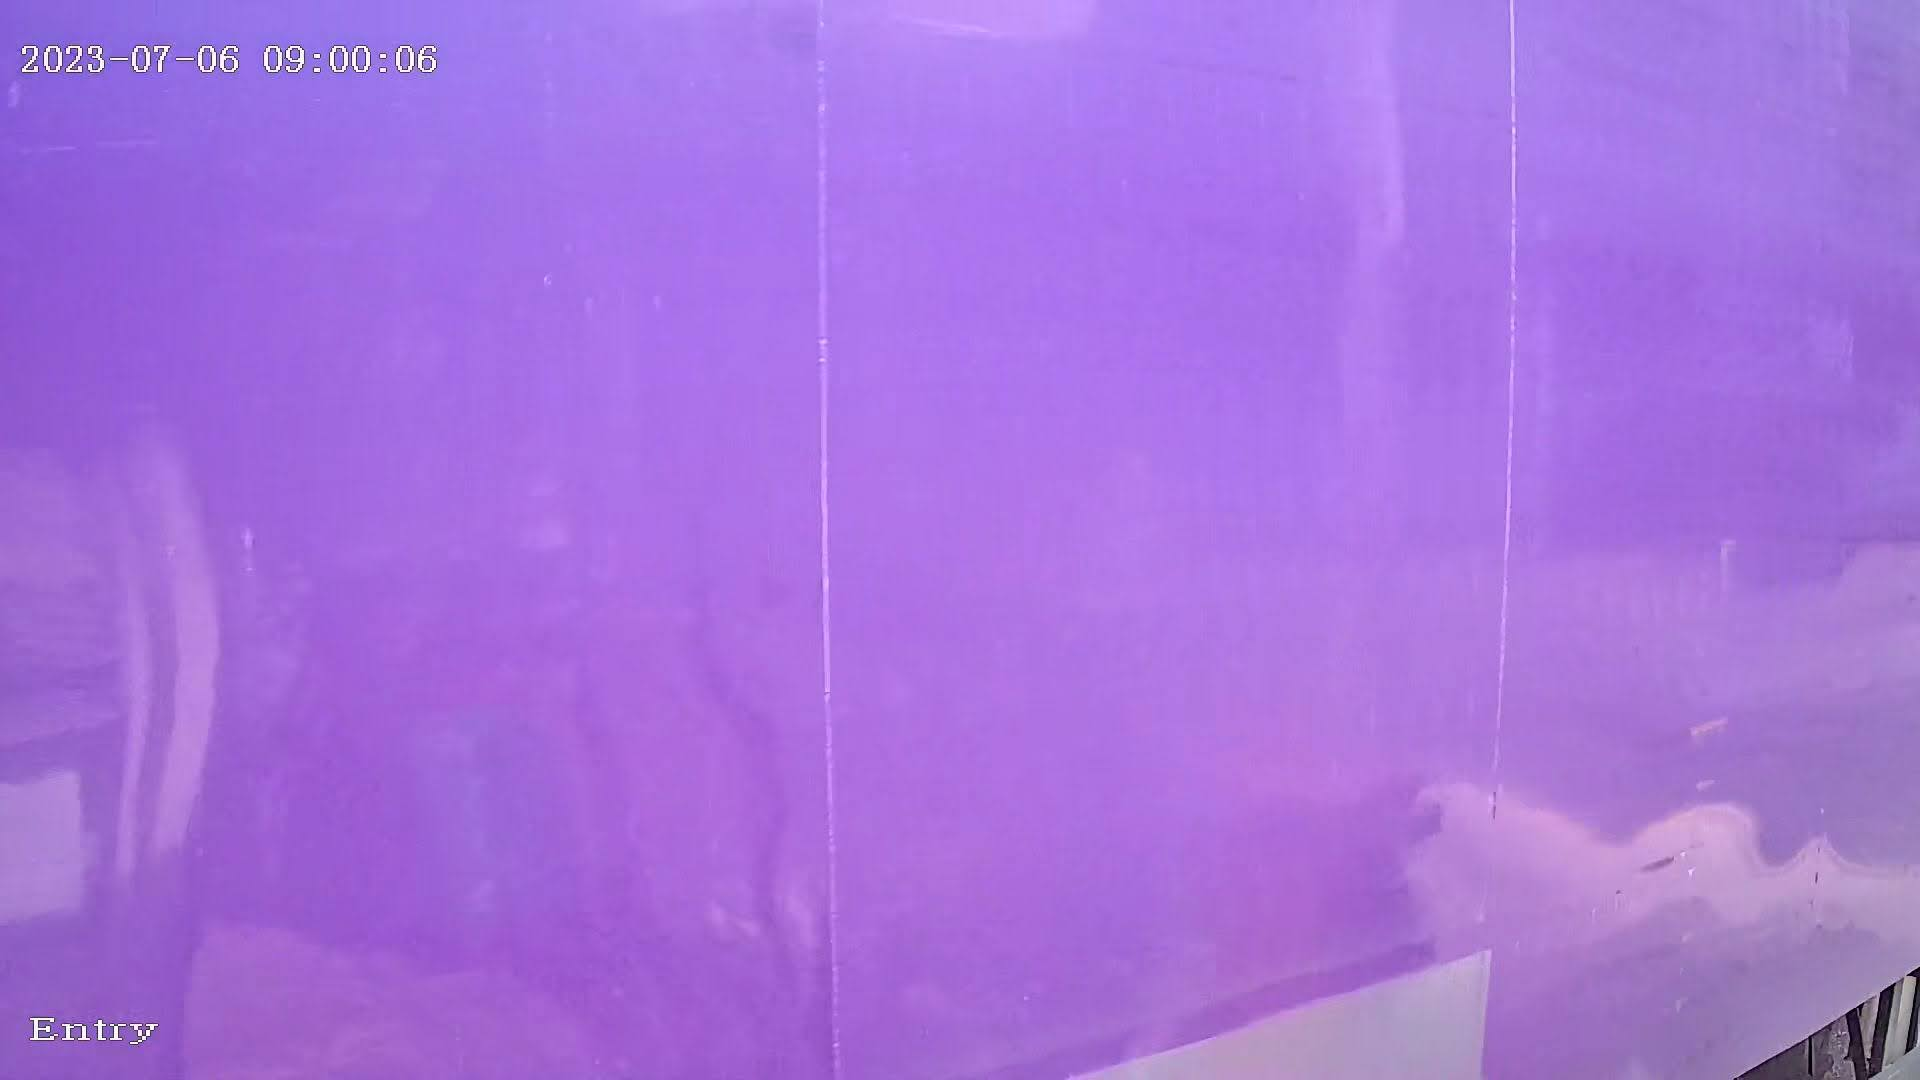truck: (8, 1, 1907, 1077)
